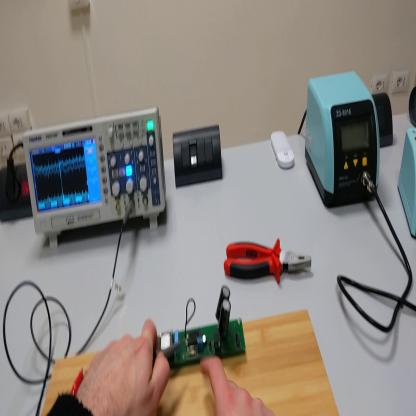hand: (77, 318, 171, 416), (201, 356, 273, 416)
high voltage board: (152, 290, 247, 372)
oscilloscope: (19, 110, 172, 252)
oscilloscope probe tip: (156, 337, 182, 362)
pliers: (223, 241, 316, 285)
socket: (1, 159, 32, 226), (373, 90, 395, 146), (410, 86, 416, 130)
welder station: (305, 65, 383, 217), (400, 126, 416, 240)
working area: (39, 308, 340, 414)
